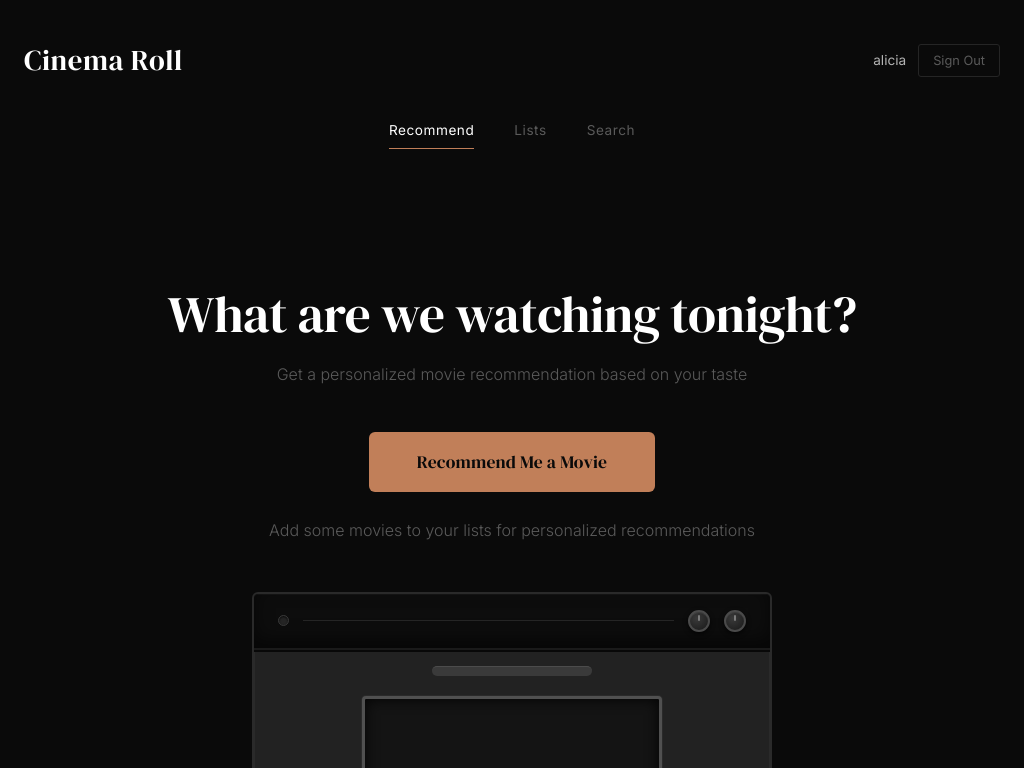
Scenario: App — lists tab › shows list toggle buttons when logged in
The width and height of the screenshot is (1024, 768).
Expected: the button "alicia" is shown, [873,46,906,74]
Click the button "Lists".
click(530, 130)  # box [514,112,547,149]
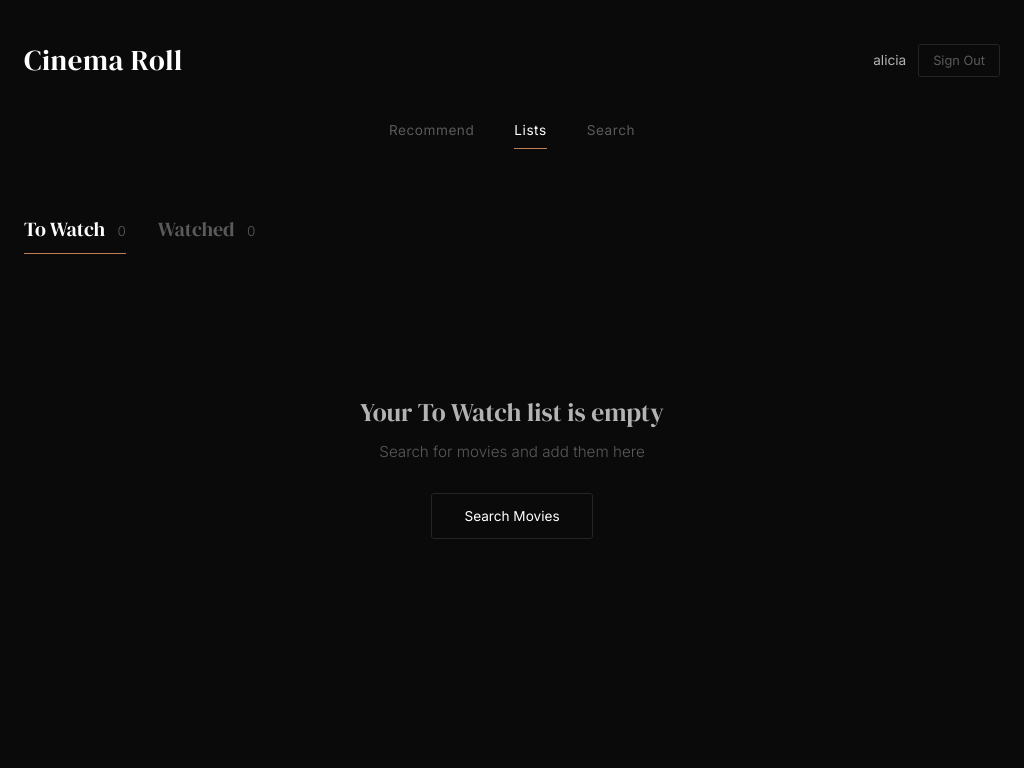
Expected: the button "To Watch 0" is shown, [24,205,126,254]
Now the button "Watched 0" is shown, box [158,205,255,254]
